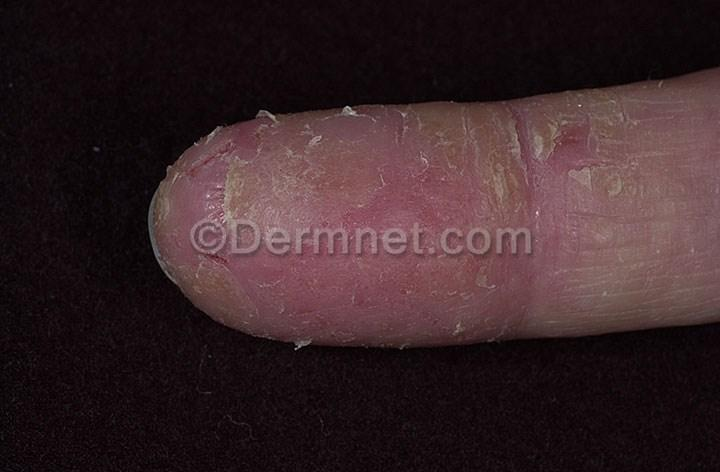Eczema: (220, 135, 393, 257), (399, 101, 547, 222), (538, 76, 669, 210), (173, 242, 284, 327), (149, 160, 207, 221)
